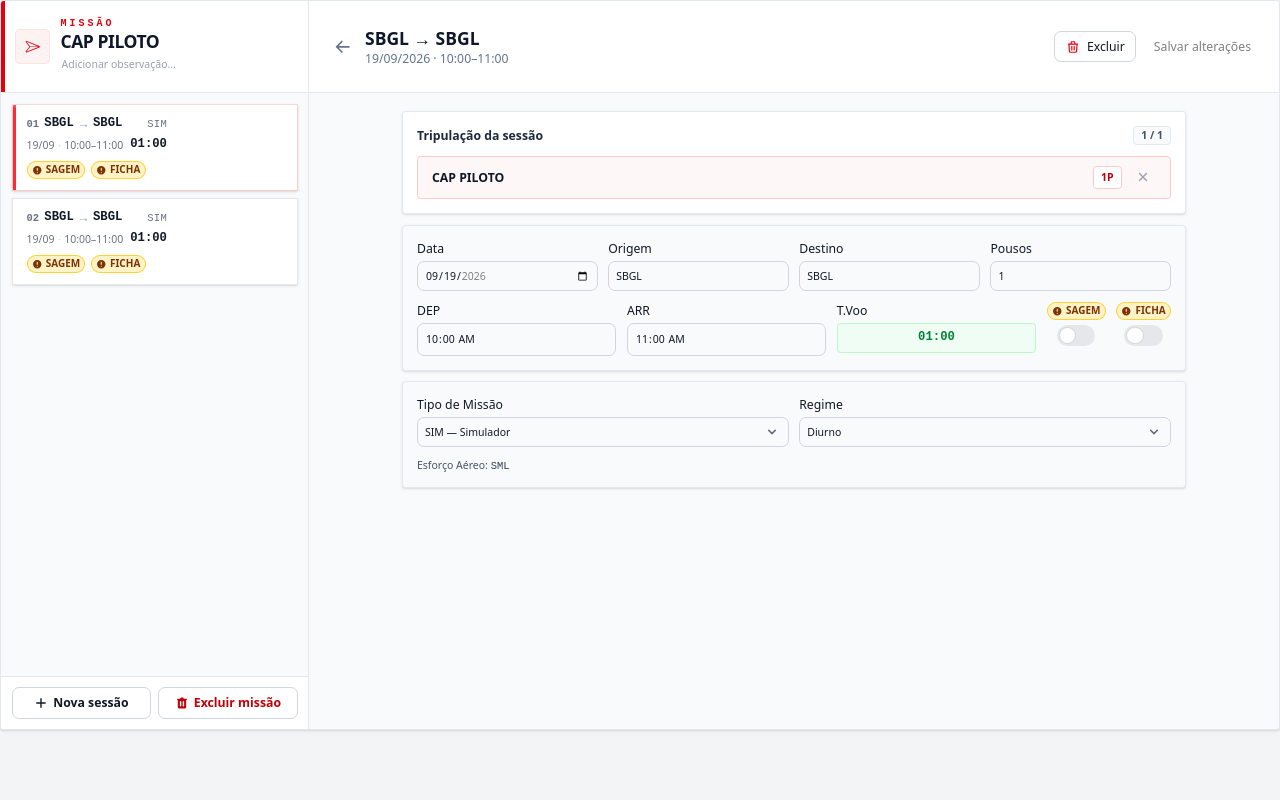
sessão sem piloto › aponta o primeiro motivo de uma sessão nova incompleta
Click the button "Nova sessão".
click(81, 703)  # box [12,687,151,718]
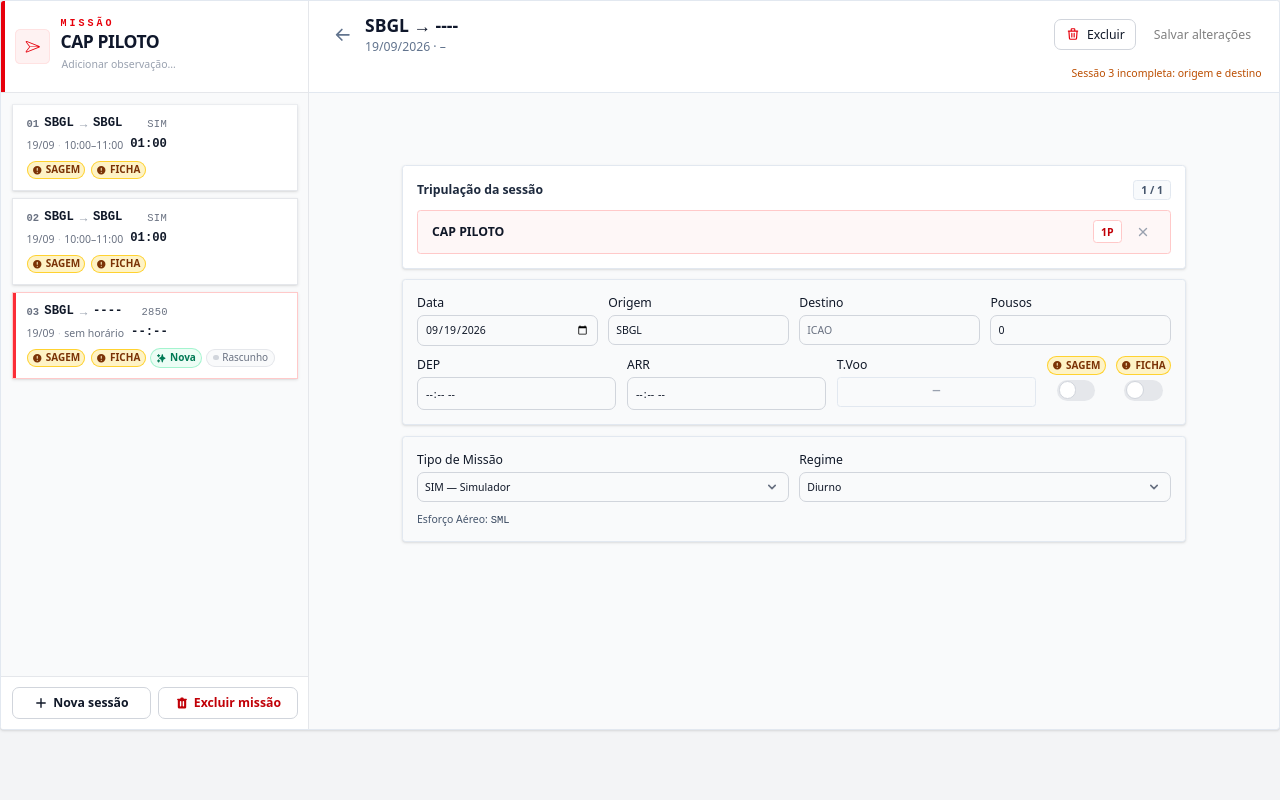
Expected: the text "Sessão 3 incompleta: origem e destino" is shown, [1072,66,1262,80]
Type "SBBR" into the field labelled "Destino".
click(890, 330); type("SBBR")  # box [799,315,980,345]
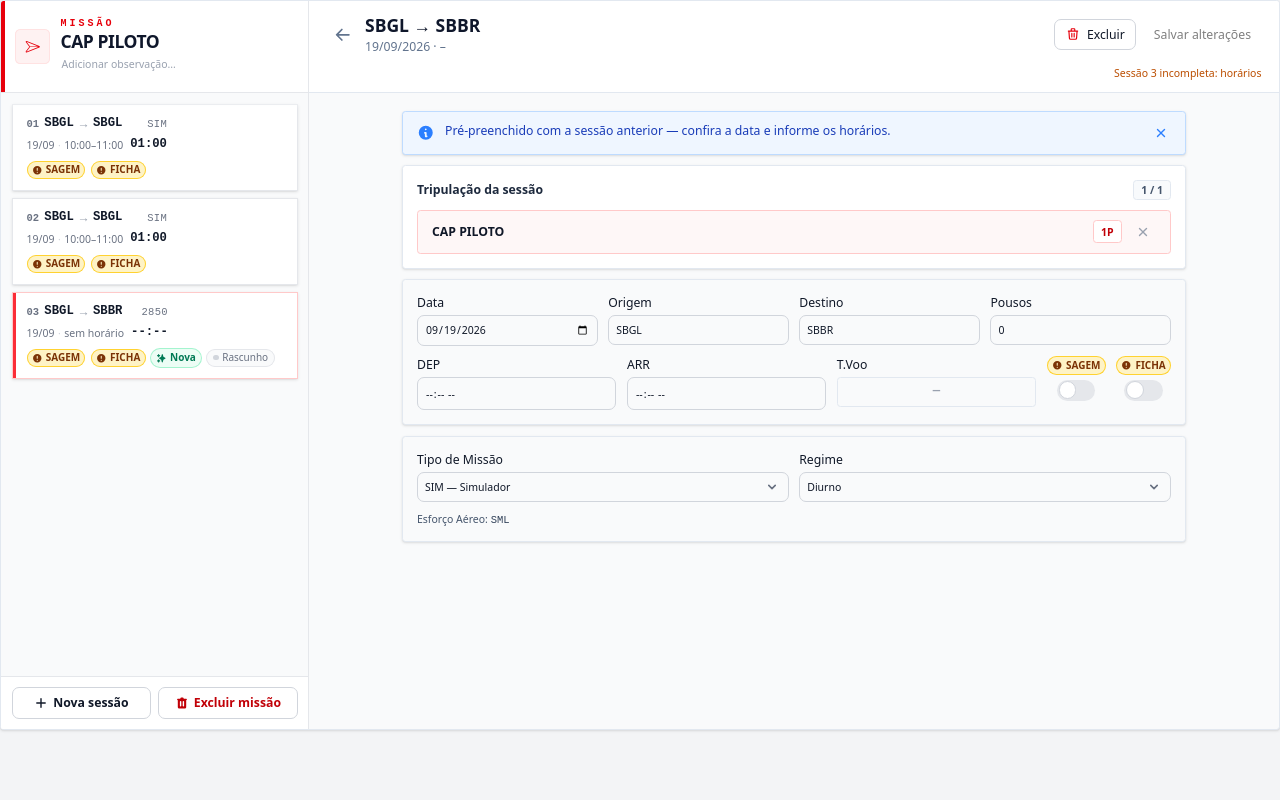
Expected: the text "Sessão 3 incompleta: horários" is shown, [1114,66,1262,80]
